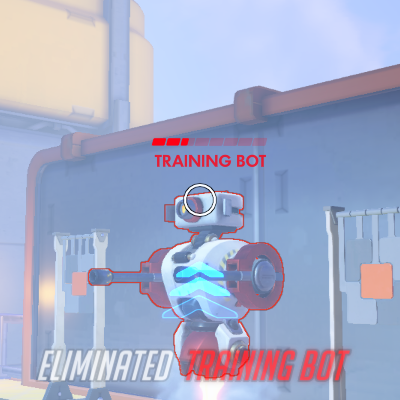hpbar: (151, 138, 267, 146)
